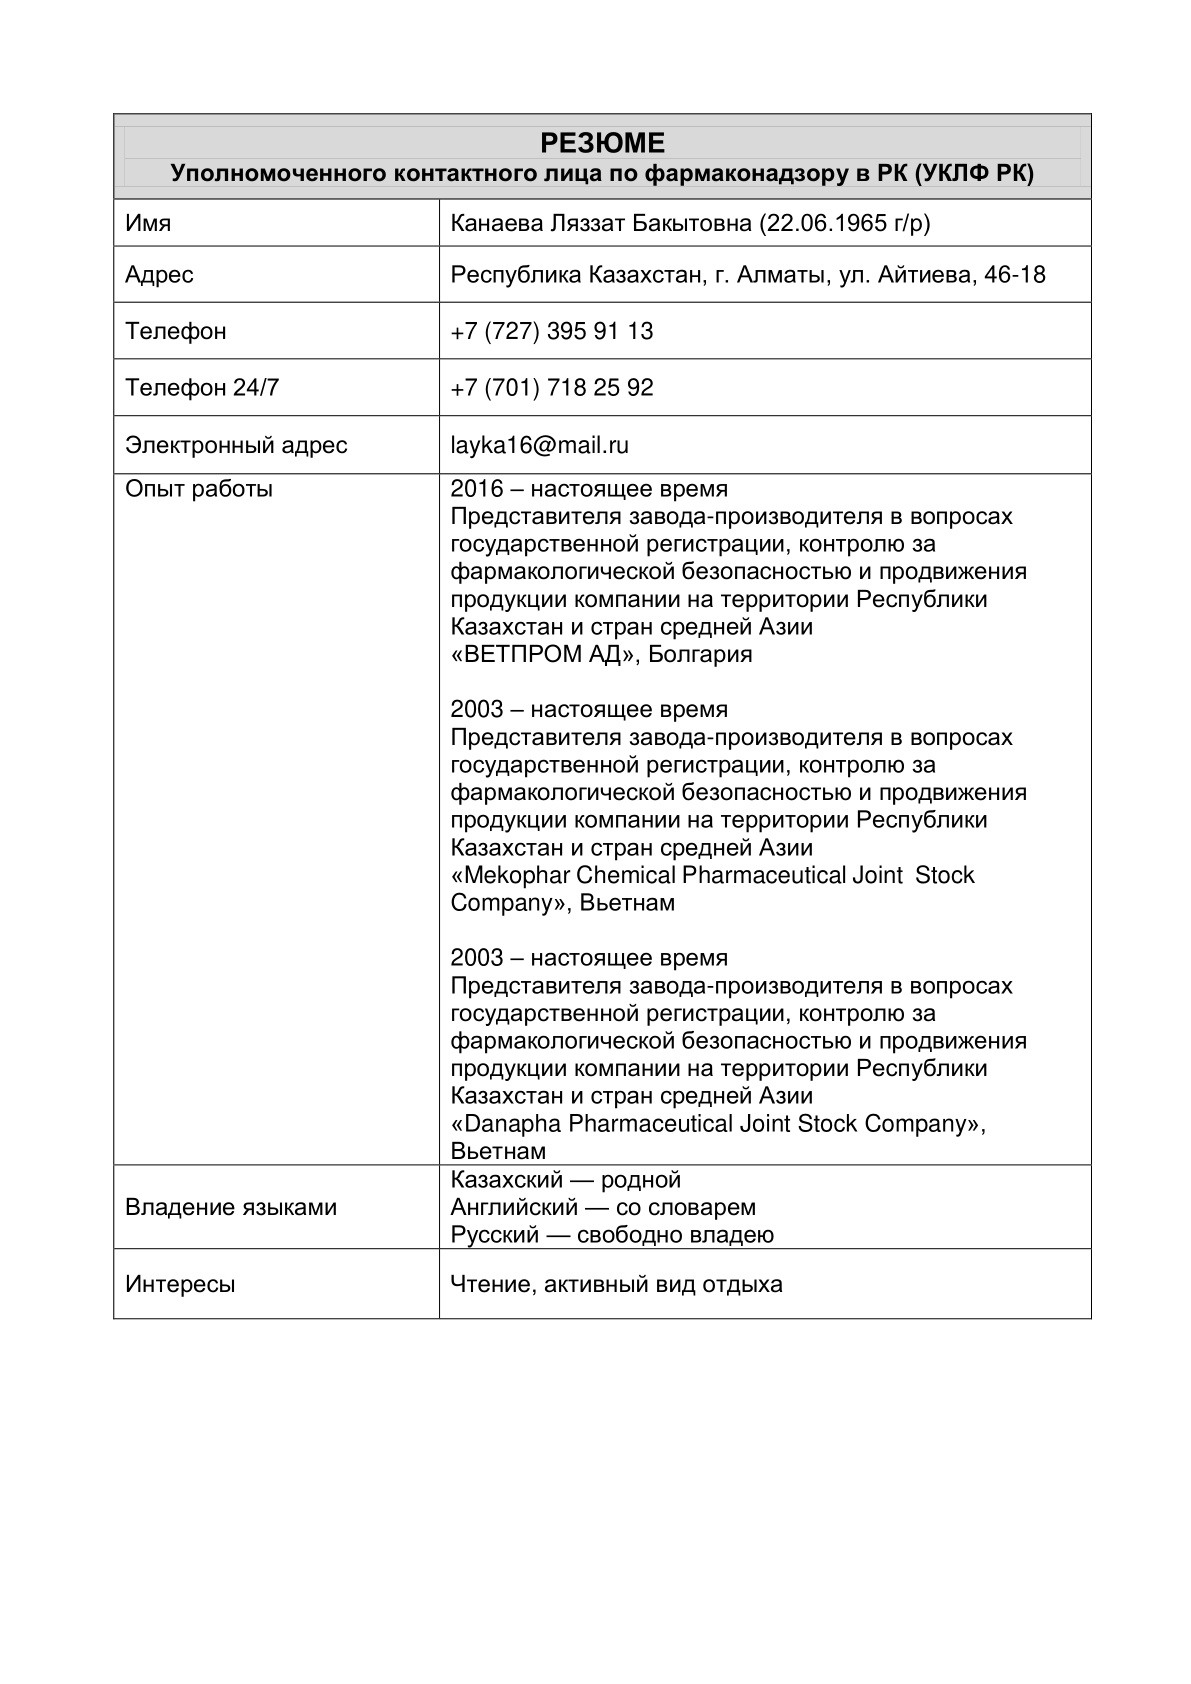merged_cells: (111, 110, 1093, 1319)
